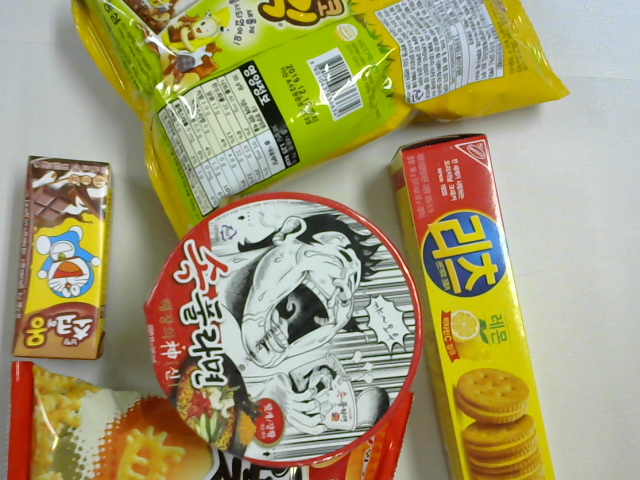Banana_Kick: (83, 1, 529, 182)
Choco_E_Mong: (8, 142, 106, 375)
Crabrang: (8, 353, 427, 480)
Hejangpul: (147, 189, 411, 451)
Ritz_Remon_96g: (379, 122, 561, 480)
